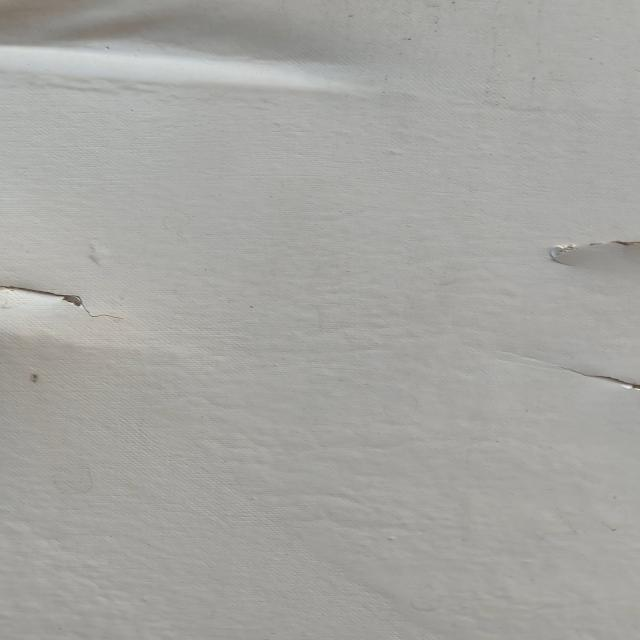Dents or Deformation: (1, 1, 372, 103)
Scratches: (1, 267, 108, 344), (532, 350, 640, 411), (544, 215, 640, 272)
